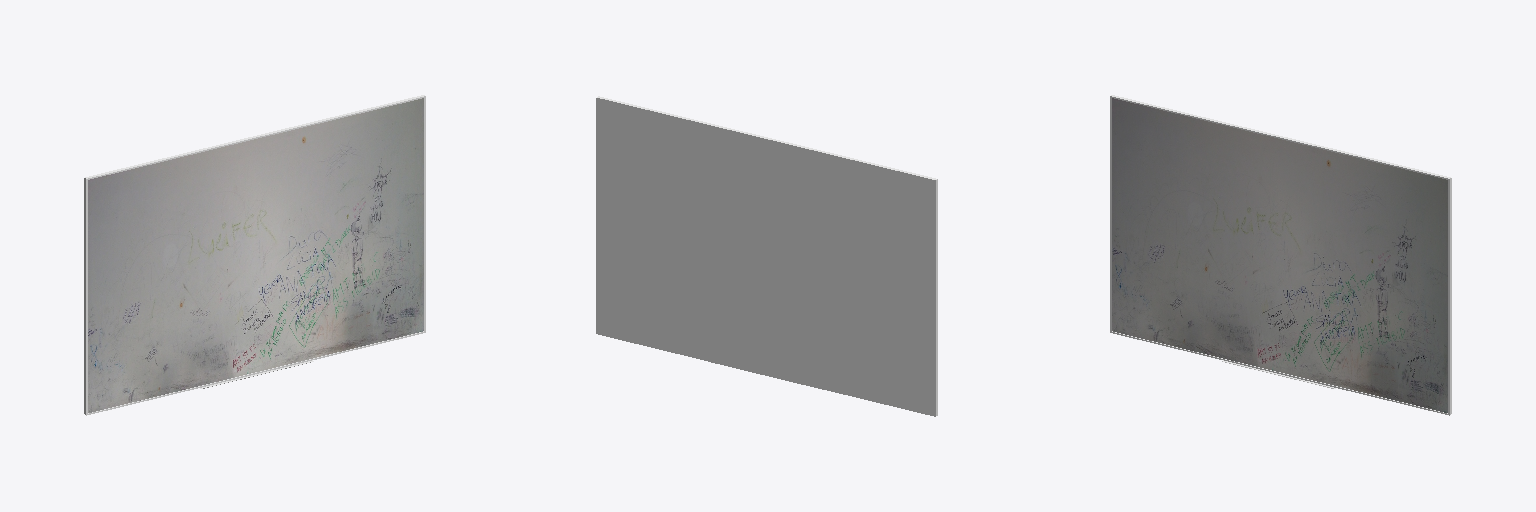
The picture shows the model from 3 angles: view 1: azimuth 30°, elevation 25°; view 2: azimuth 150°, elevation 25°; view 3: azimuth 330°, elevation 25°; orthographic projection.
Parts seen in each view (by area): view 1: Cube_Cube.001; view 2: Cube_Cube.001; view 3: Cube_Cube.001.
Boxes of the visible parts, x1,y1,x2,y2 form: Cube_Cube.001: [84, 95, 425, 415]; Cube_Cube.001: [596, 96, 937, 416]; Cube_Cube.001: [1110, 95, 1451, 415].
Bounding box in the file's own units: 1.5 × 1 × 0.0292.
Materials: 1 (1 with a texture image).